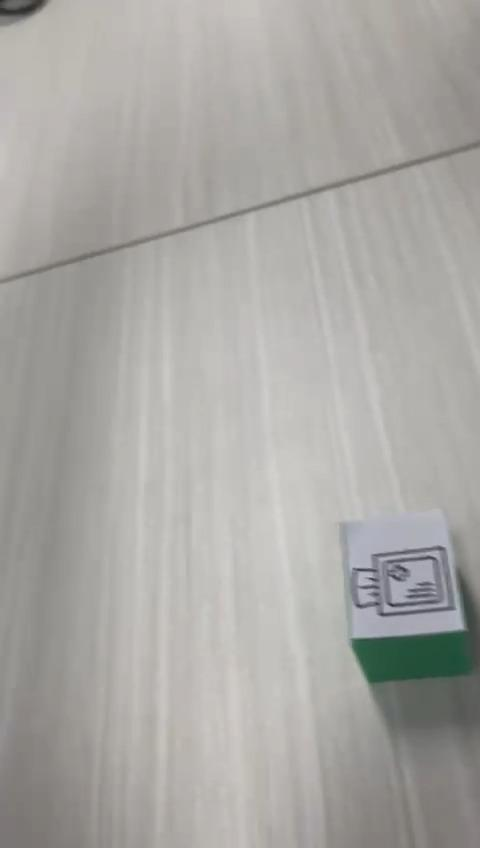Gauze: (337, 507, 474, 684)
